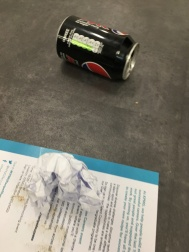can_black: (49, 6, 150, 87)
paper_white: (28, 144, 109, 219)
